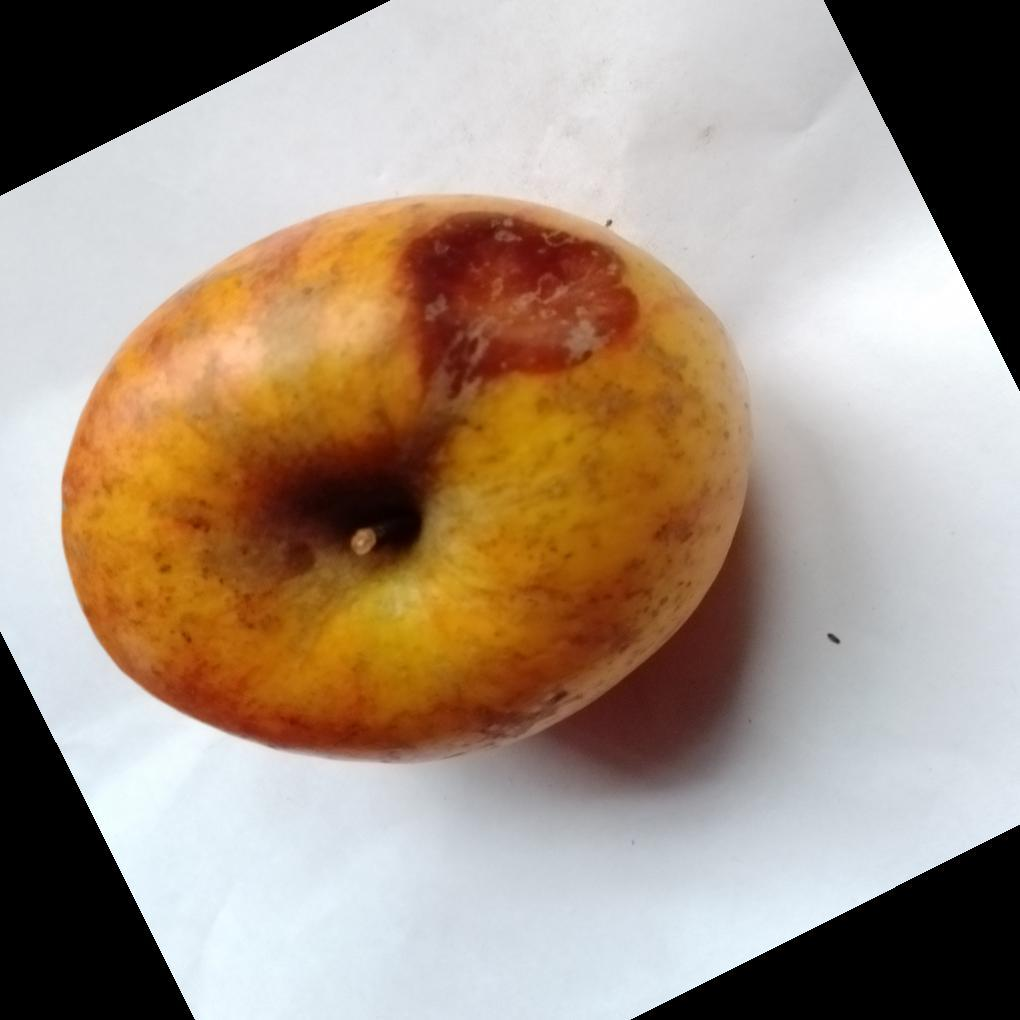FreshOrange: (59, 196, 754, 767)
